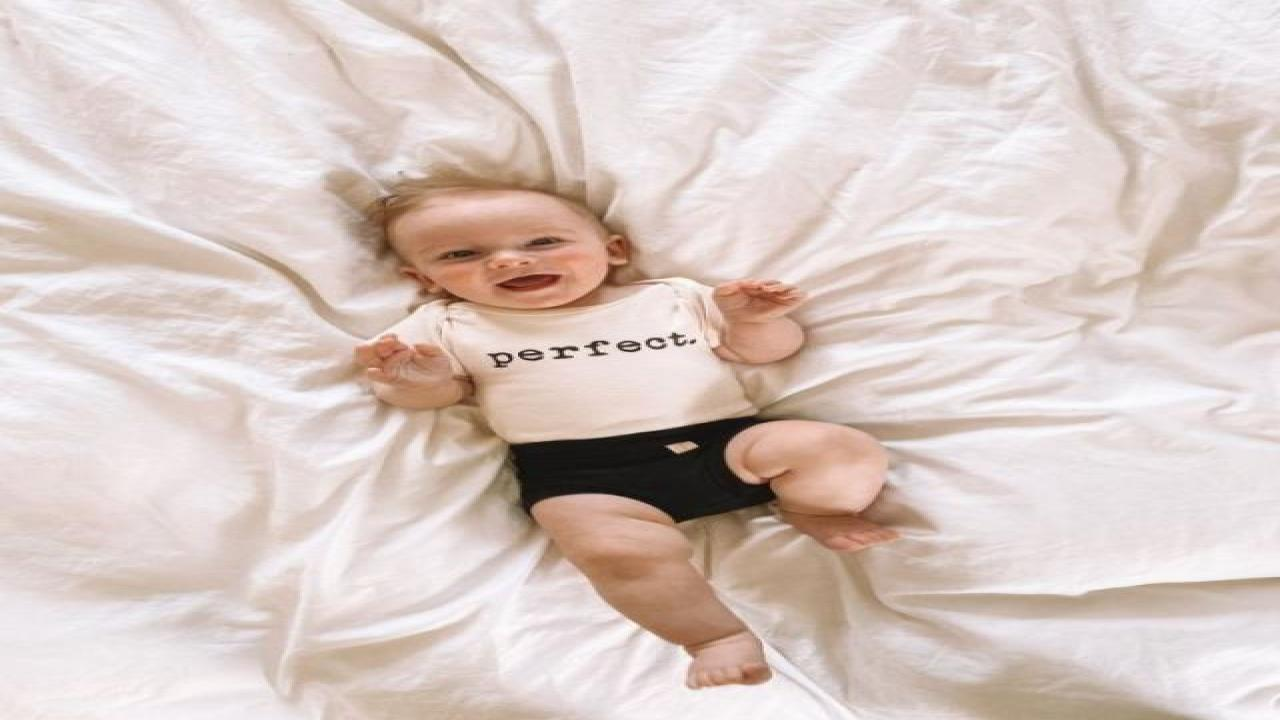hand: (347, 331, 470, 392), (710, 272, 817, 325)
